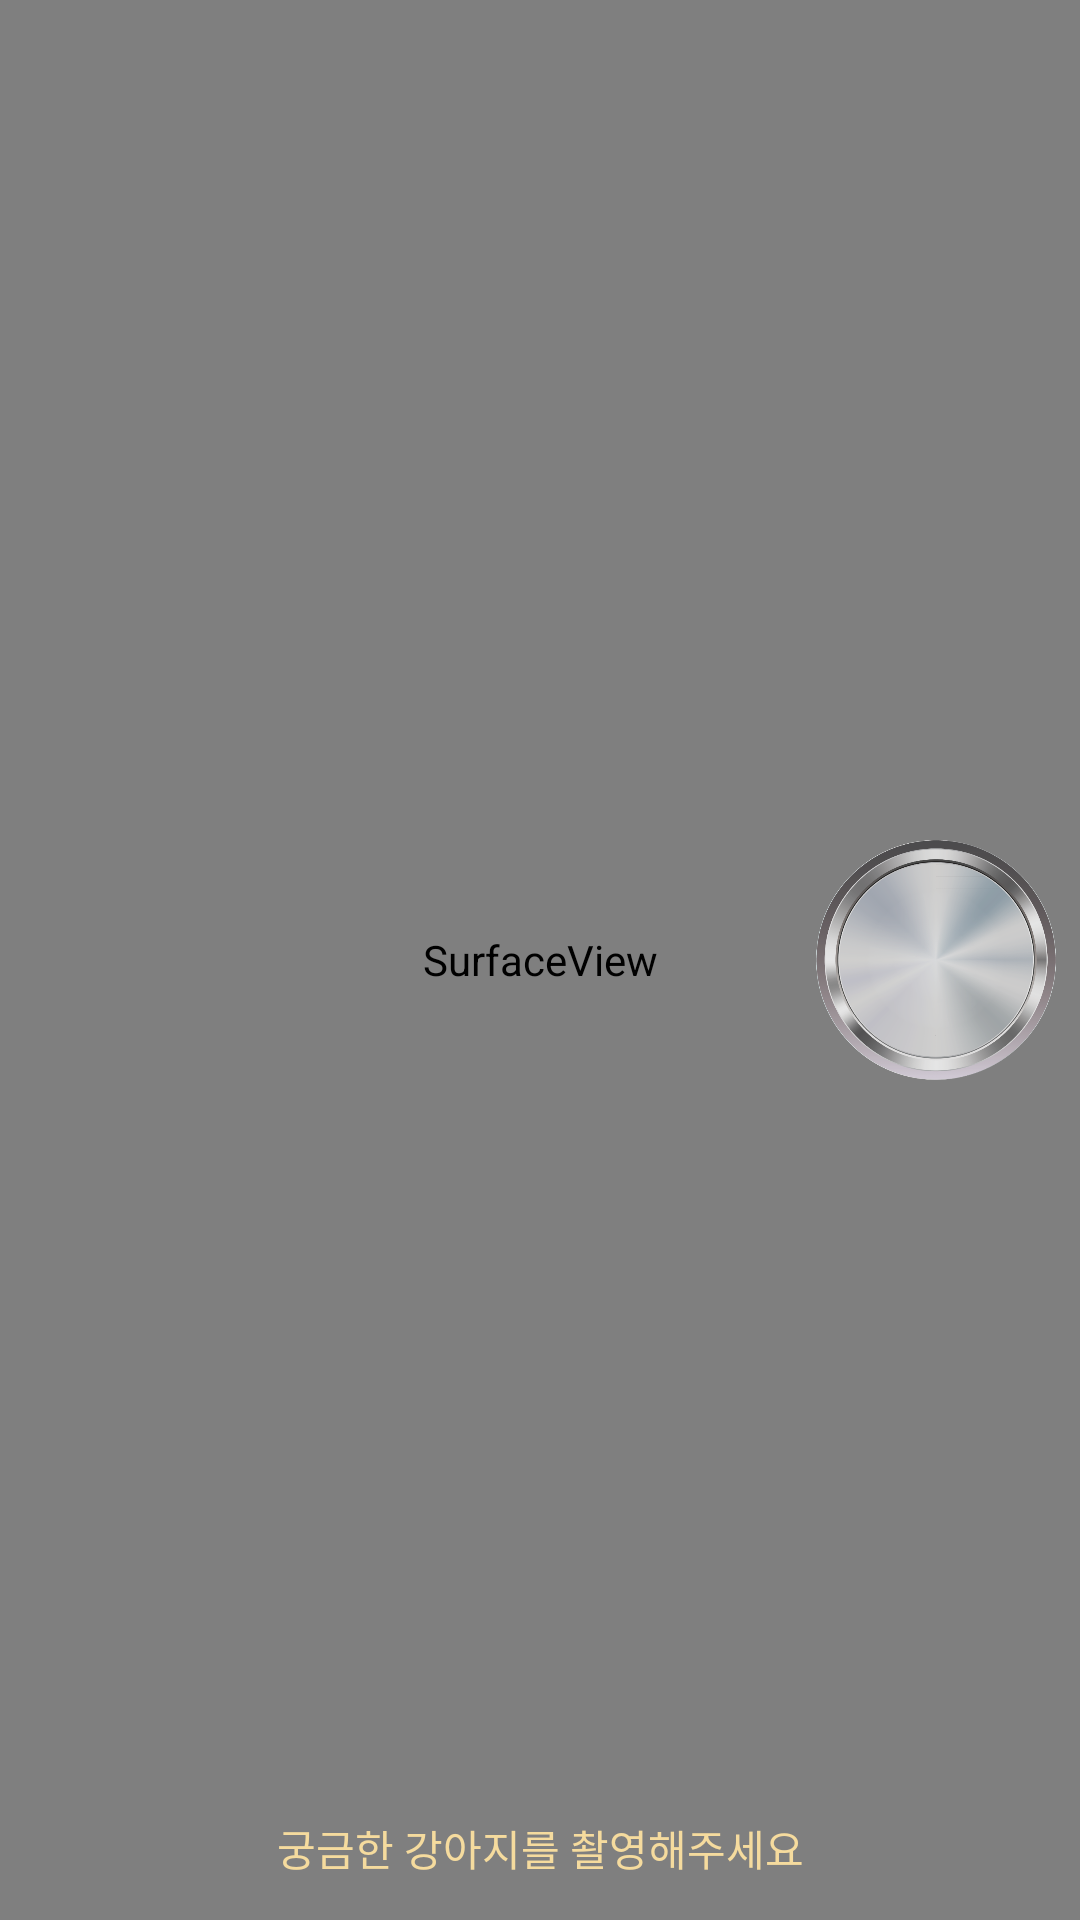

Where to tap for icons on this 1080 x 1920 app screen, as (x=x, y=y):
capture: (x=936, y=960)
